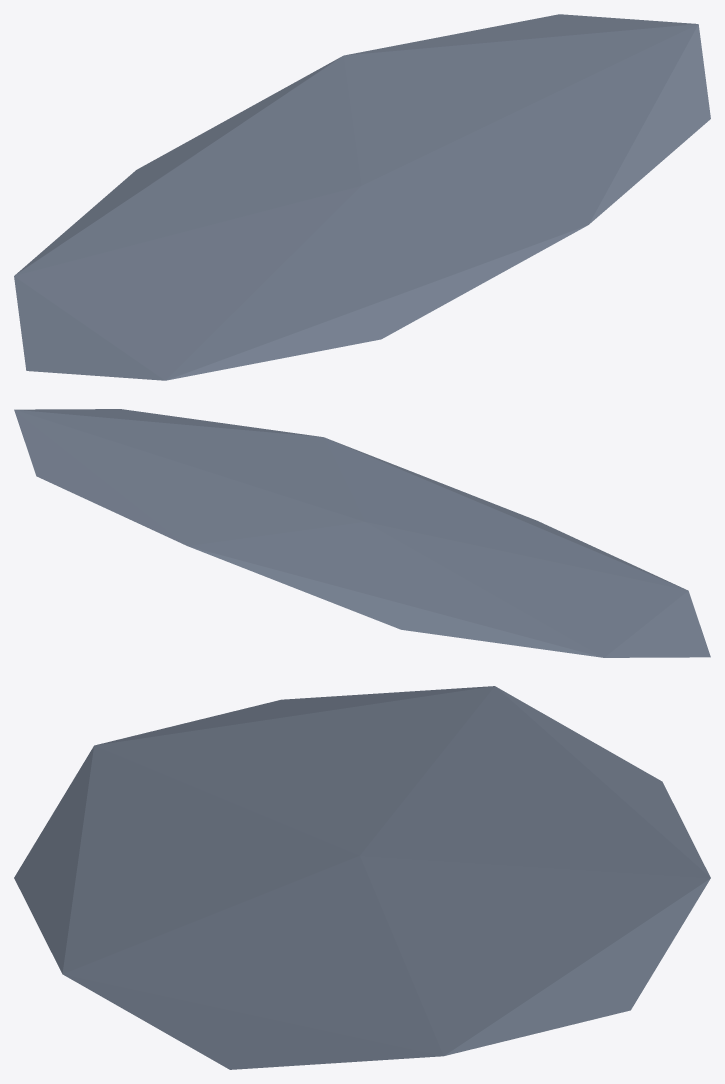
Rendered from EXTG_SouthRoad_04.glb.
3 renders of one model, top to bottom at view 1: azimuth 30°, elevation 25°; view 2: azimuth 150°, elevation 25°; view 3: azimuth 270°, elevation 25°, orthographic. The views are drawn at different scales.
Visible parts, largest first — view 1: EXTG_SouthRoad_04; view 2: EXTG_SouthRoad_04; view 3: EXTG_SouthRoad_04.
Part boxes in pixels (x1,y1,x2,y2): EXTG_SouthRoad_04: (14, 14, 710, 380); EXTG_SouthRoad_04: (14, 409, 710, 657); EXTG_SouthRoad_04: (14, 686, 710, 1069).
Size of the model in its own units: 2.05 by 0.3642 by 1.05.
